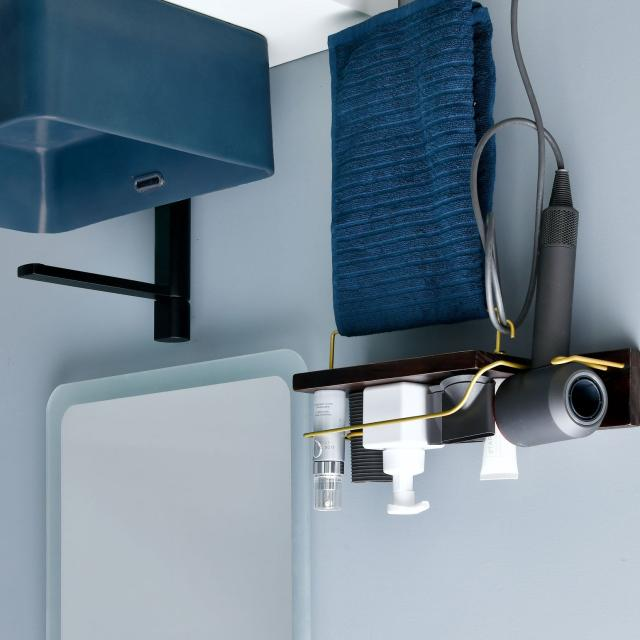dryer: (463, 7, 640, 484), (485, 148, 624, 456)
